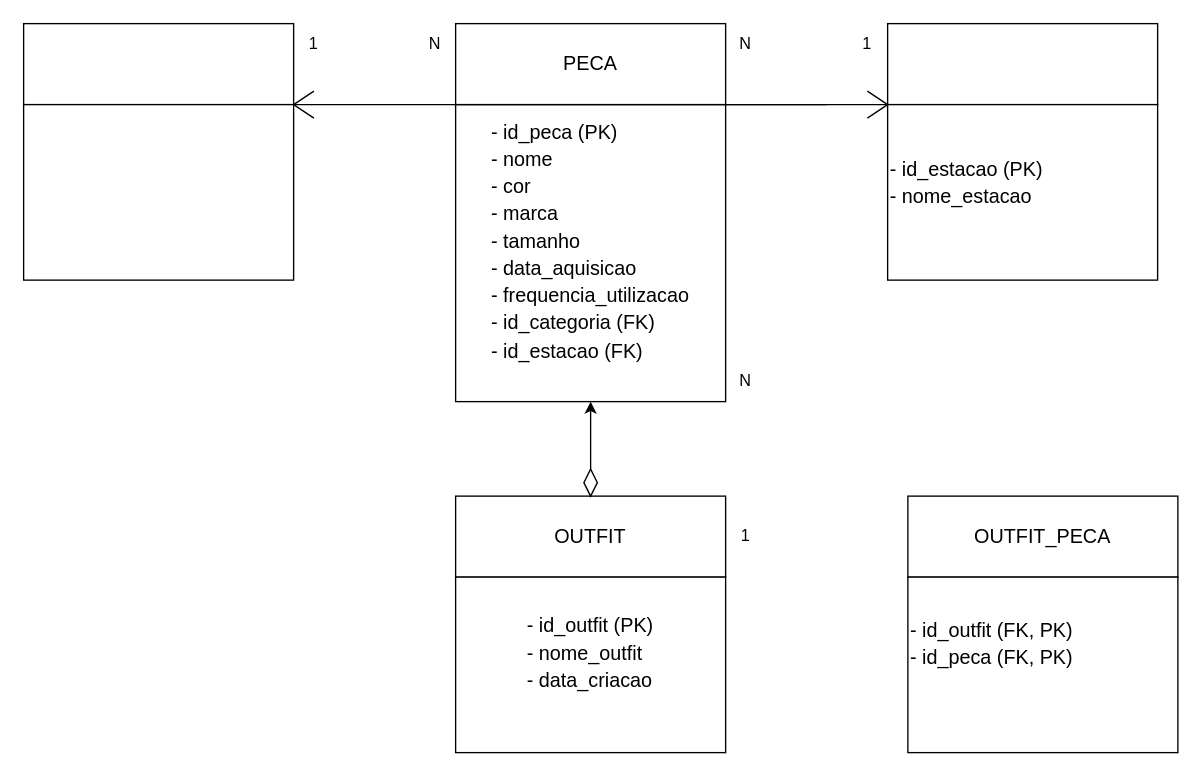
The diagram is 1202 pixels wide and 776 high, and some of its shapes have lost their labels. The centre of each missing label's shape, as x and y in pixels:
- id_categoria (PK) - nome_categoria: point 158,191
CATEGORIA: point 158,63
ESTACAO: point 1022,63
